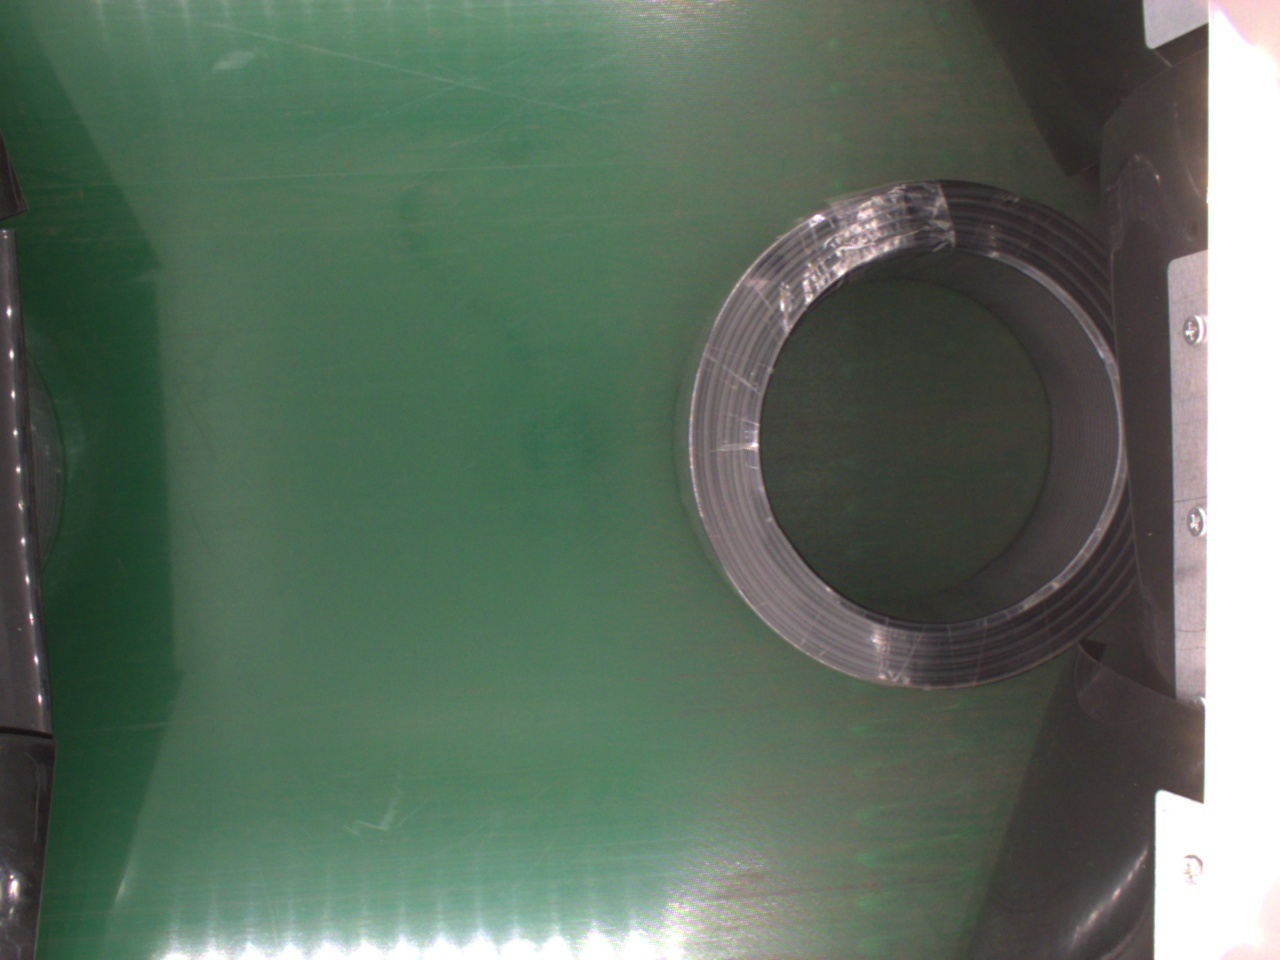black: (678, 170, 1142, 696)
